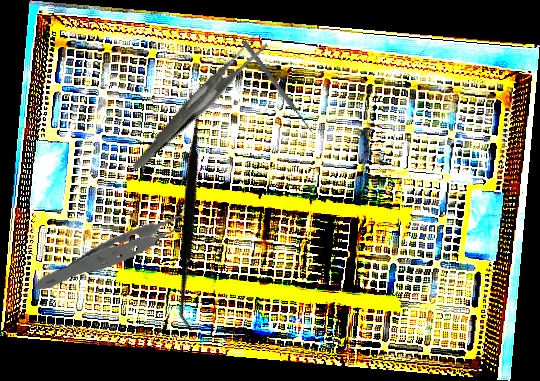Dressing Forceps: (105, 31, 291, 170)
Pusher: (240, 39, 315, 134)
Spatula Surgical: (88, 91, 294, 333)
Tissue Forceps: (34, 196, 206, 313)
